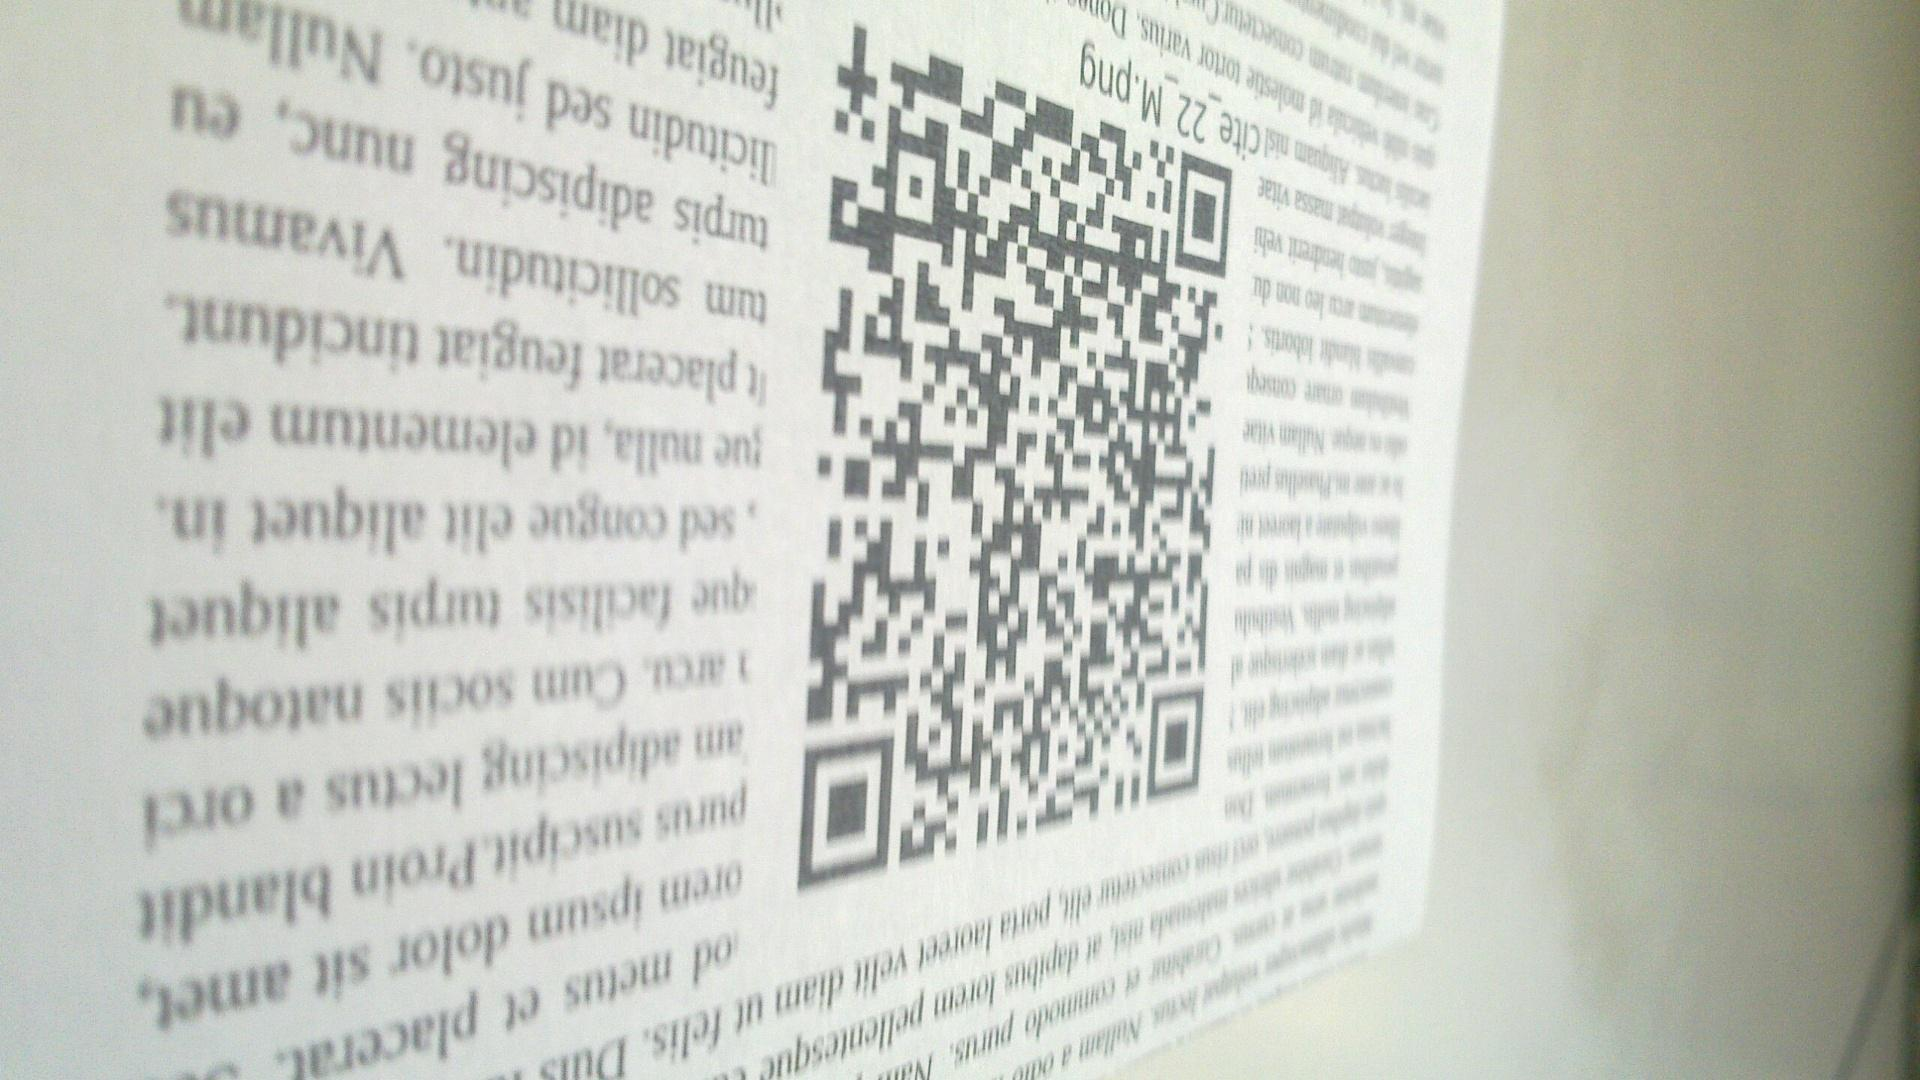Finder pattern: (793, 731, 895, 885), (1168, 142, 1237, 286), (1149, 683, 1209, 802)
